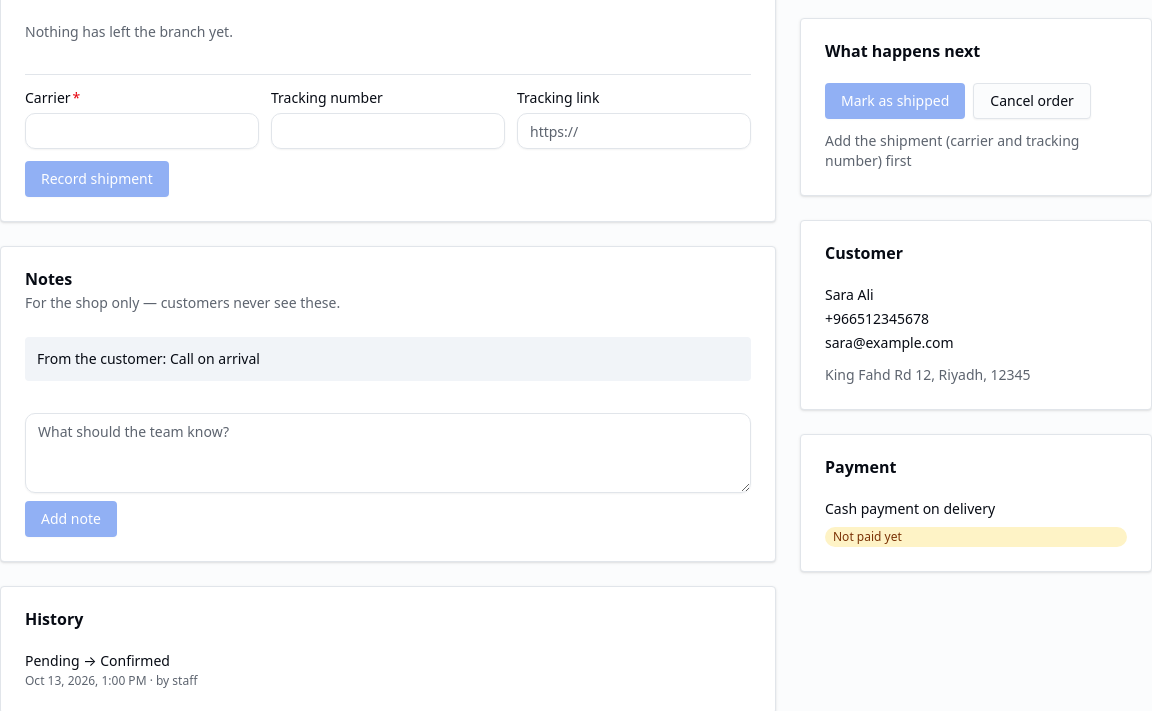
it: one order › keeps staff notes apart from the customer’s own note
(page scrolled)
Expected: the text "From the customer:" is shown, [37,349,170,368]
Expected: the text "From the customer: Call on arrival" is shown, [25,337,751,381]
In the text box named "Add note": (388, 453) [25,413,751,493], type "Customer asked to call first"
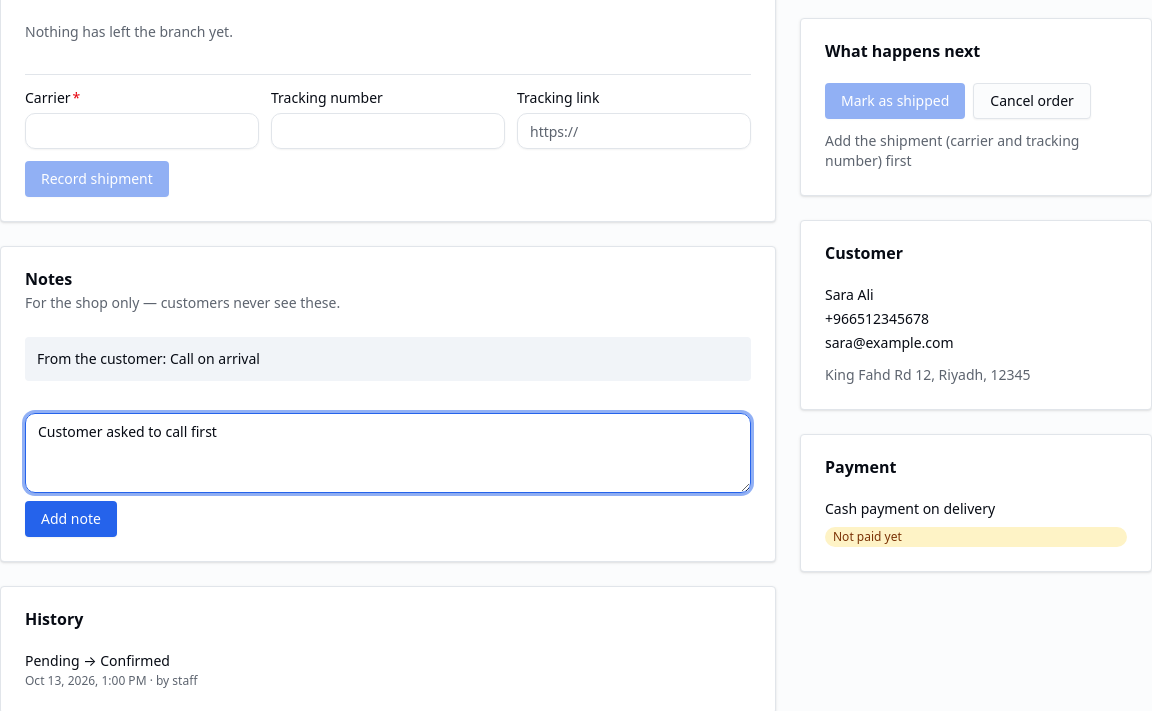
Click the button "Add note": (71, 519) [25,501,117,537]
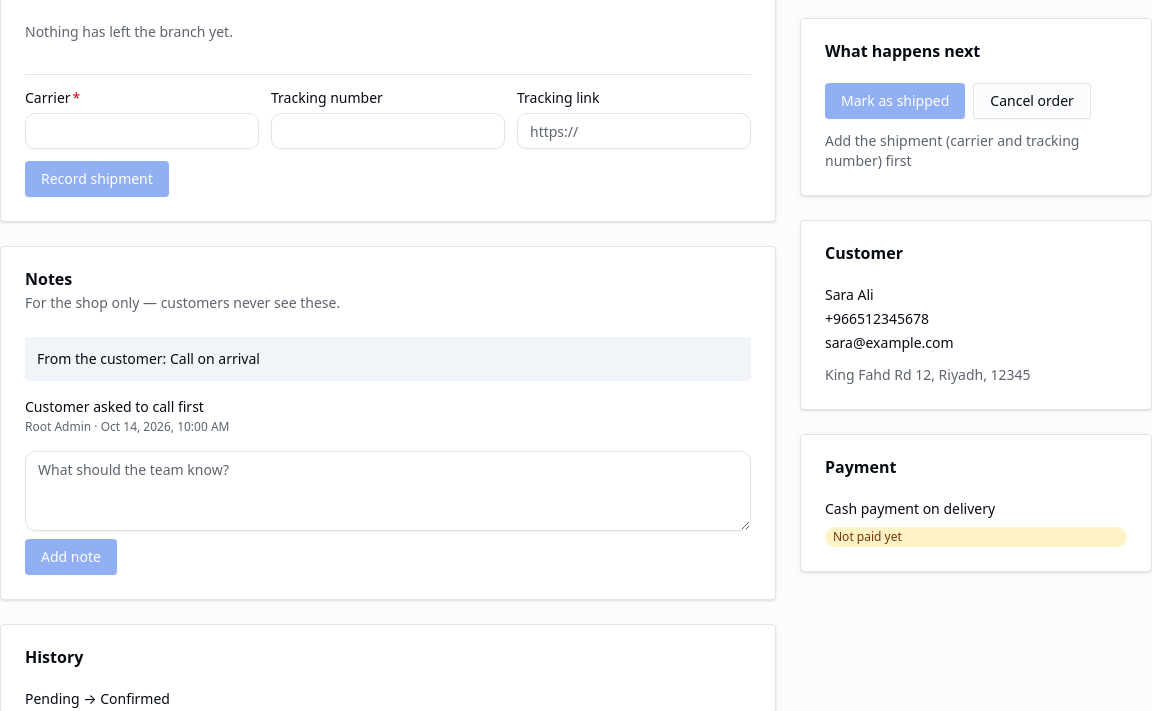
Now the text "Customer asked to call first" is shown, box [25,397,204,416]
Now the text "Root Admin · Oct 14, 2026, 10:00 AM" is shown, box [25,418,230,435]
